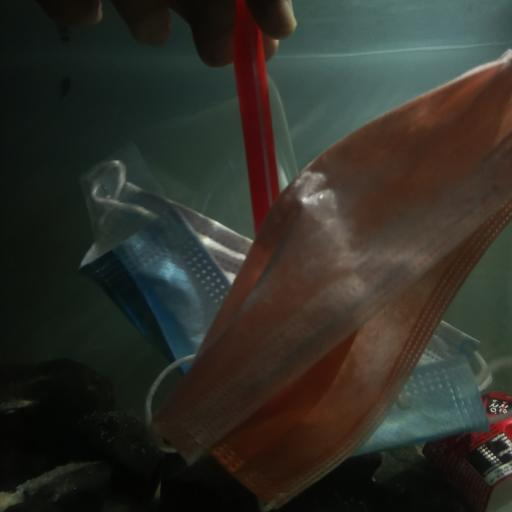mask: (133, 50, 512, 512), (83, 152, 512, 457)
plastic_bottle: (416, 391, 512, 512)
plastic_straw: (230, 2, 280, 240)
